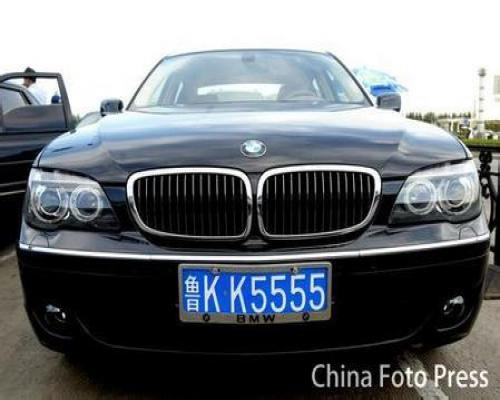Carplate: (170, 254, 336, 334)
